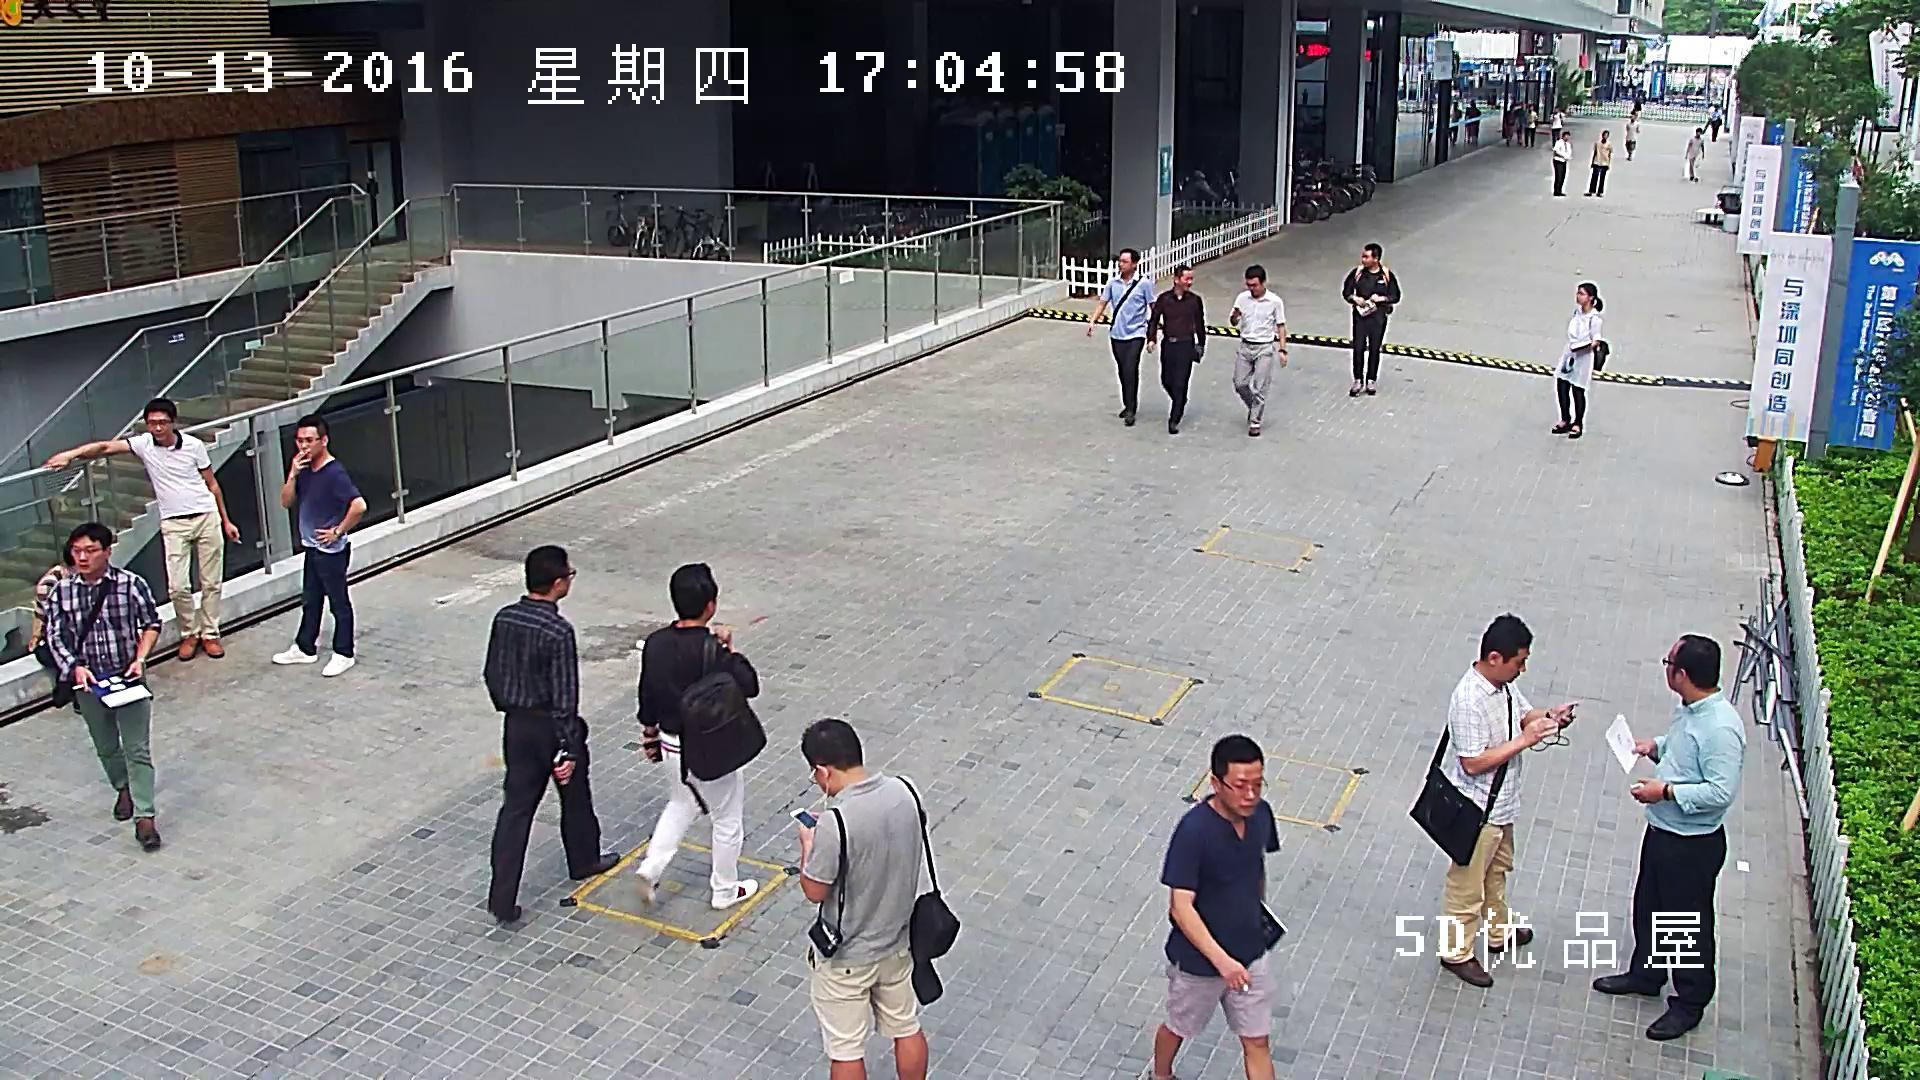person: (1409, 613, 1579, 987), (788, 718, 958, 1080), (1594, 634, 1745, 1040), (42, 398, 241, 660), (483, 545, 619, 921), (633, 562, 766, 909), (1154, 734, 1287, 1079), (44, 522, 161, 848), (270, 414, 366, 676), (1086, 248, 1155, 425), (1146, 265, 1205, 433), (1229, 264, 1286, 436), (1342, 243, 1399, 397), (1552, 283, 1609, 438), (28, 541, 76, 712), (1583, 130, 1612, 197), (1552, 131, 1571, 195), (1684, 128, 1703, 182), (1521, 104, 1539, 149), (1549, 106, 1565, 150), (1464, 101, 1480, 144), (1625, 118, 1639, 160), (1503, 103, 1515, 146), (1449, 101, 1461, 144), (1702, 103, 1715, 133), (1711, 104, 1721, 142), (1517, 101, 1525, 145)
